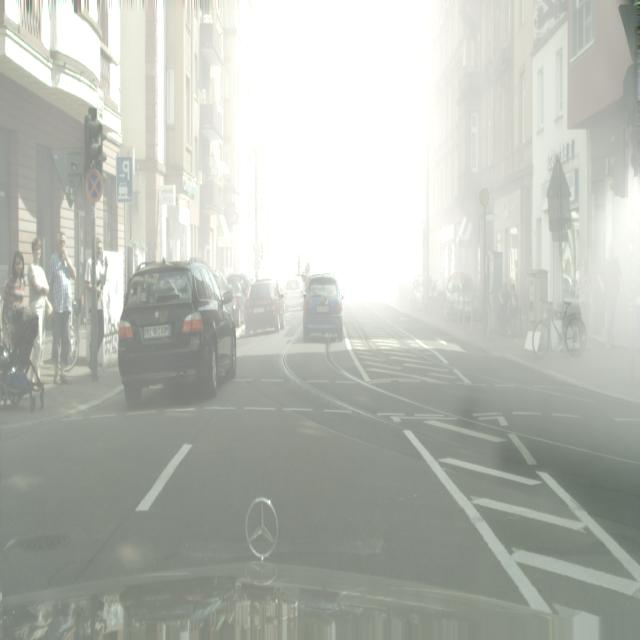bus: (48, 231, 77, 385), (1, 250, 37, 372), (82, 238, 108, 381), (27, 237, 50, 371), (1, 251, 27, 363), (598, 243, 623, 350), (578, 258, 592, 343), (497, 278, 509, 336), (508, 282, 518, 338)
person: (117, 259, 237, 407), (302, 274, 344, 342), (244, 278, 283, 336), (212, 268, 238, 328), (227, 272, 251, 328), (284, 277, 304, 311)
truck: (532, 300, 586, 358)
